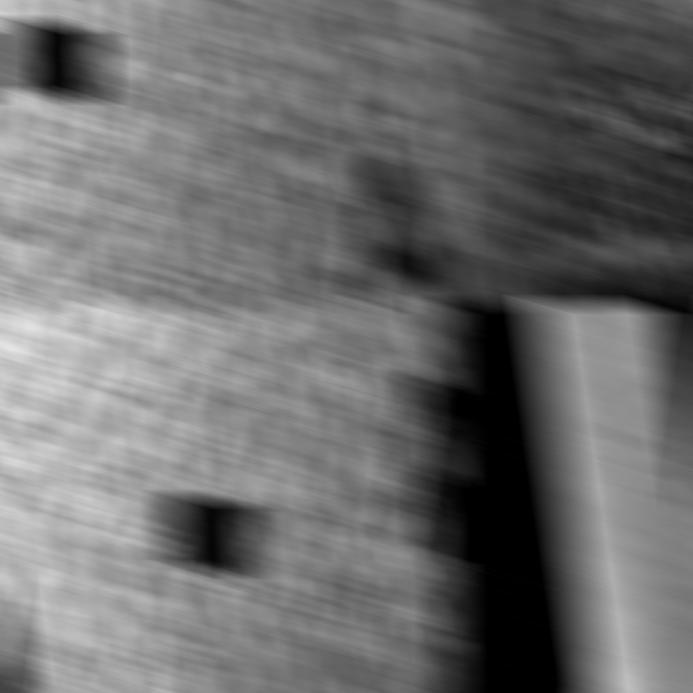Airbag: (0, 301, 459, 693), (0, 0, 459, 306), (441, 0, 693, 306), (521, 301, 693, 693)
